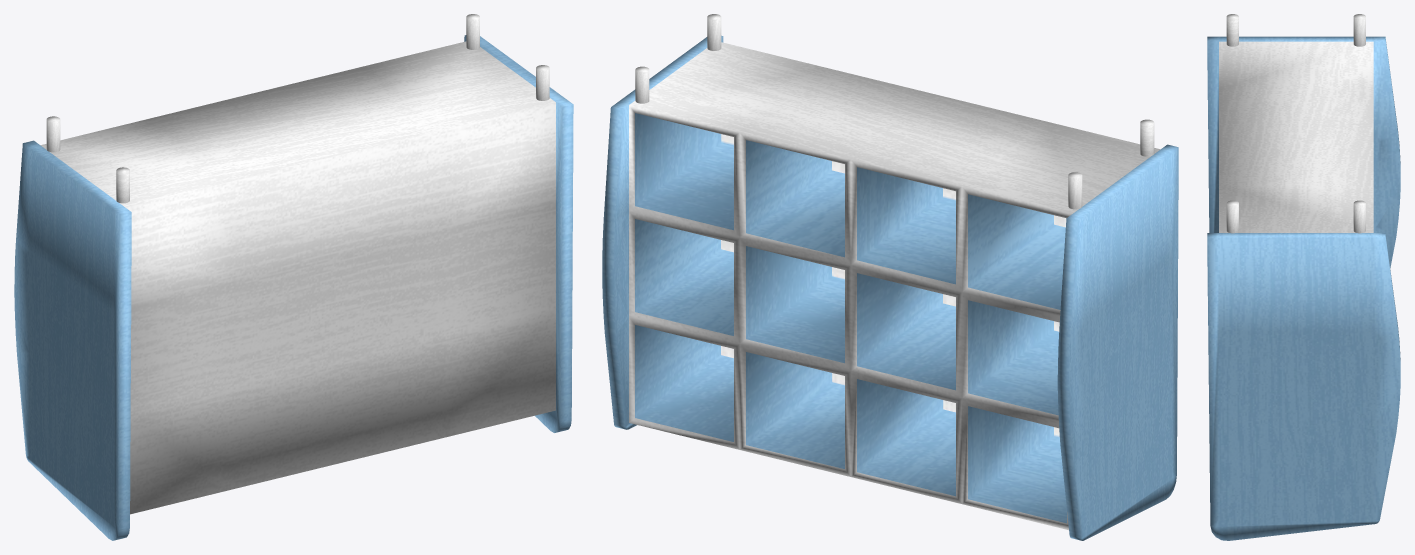
The model's file is estante.glb.
3 renders of one model, left to right at view 1: azimuth 30°, elevation 25°; view 2: azimuth 150°, elevation 25°; view 3: azimuth 270°, elevation 25°, orthographic. The views are drawn at different scales.
Visible parts, largest first — view 1: bookshlef; view 2: bookshlef; view 3: bookshlef.
Part boxes in pixels (left/top/right/bottom): bookshlef: left=14, top=14, right=573, bottom=540; bookshlef: left=602, top=14, right=1178, bottom=540; bookshlef: left=1207, top=14, right=1400, bottom=540.
Bounding box in the file's own units: 1.54 × 1.18 × 0.6254.
Materials: 1 (1 with a texture image).
